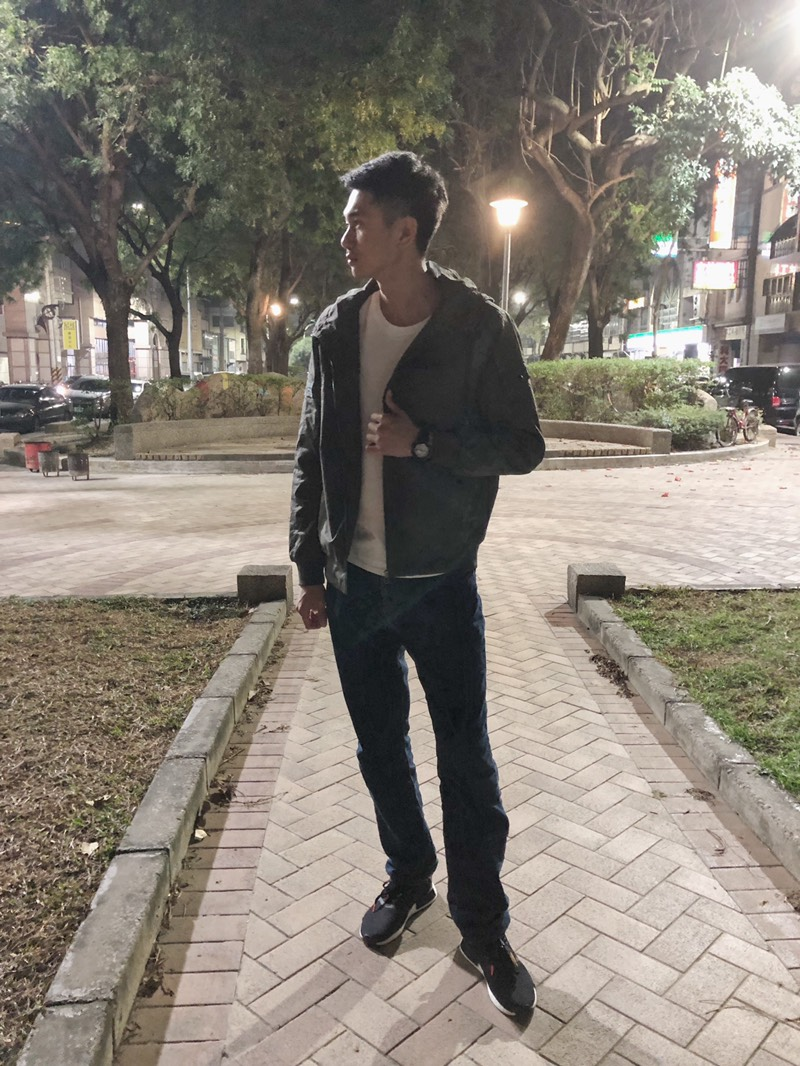people: (287, 155, 544, 1019)
